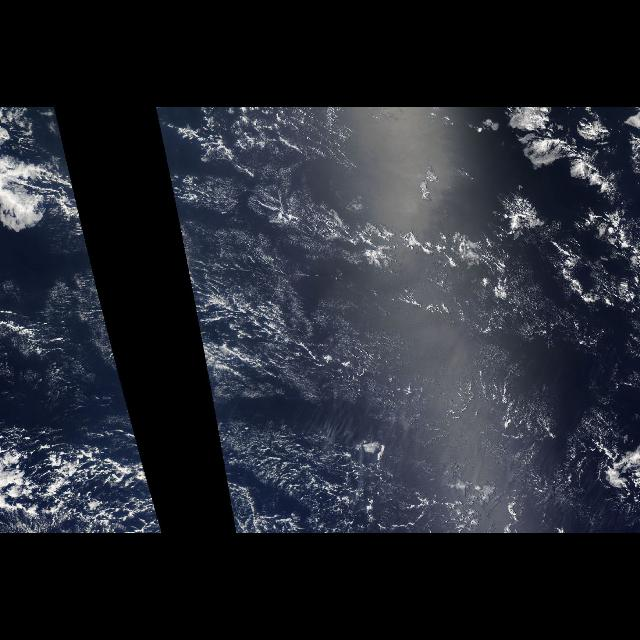Gravel: (214, 418, 482, 534)
Sugar: (212, 294, 530, 510)
